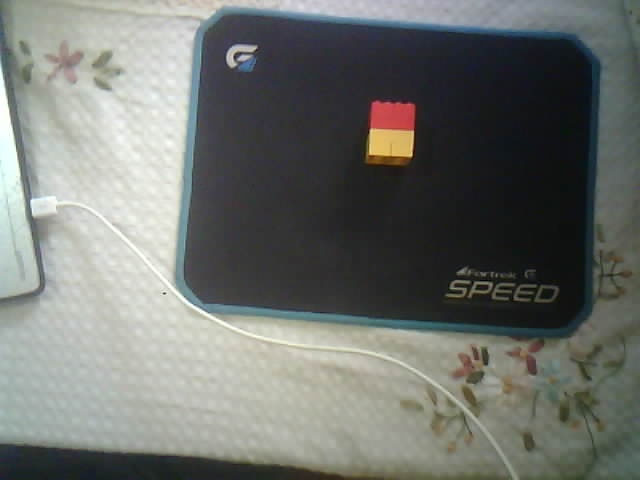lego: (364, 99, 416, 166)
